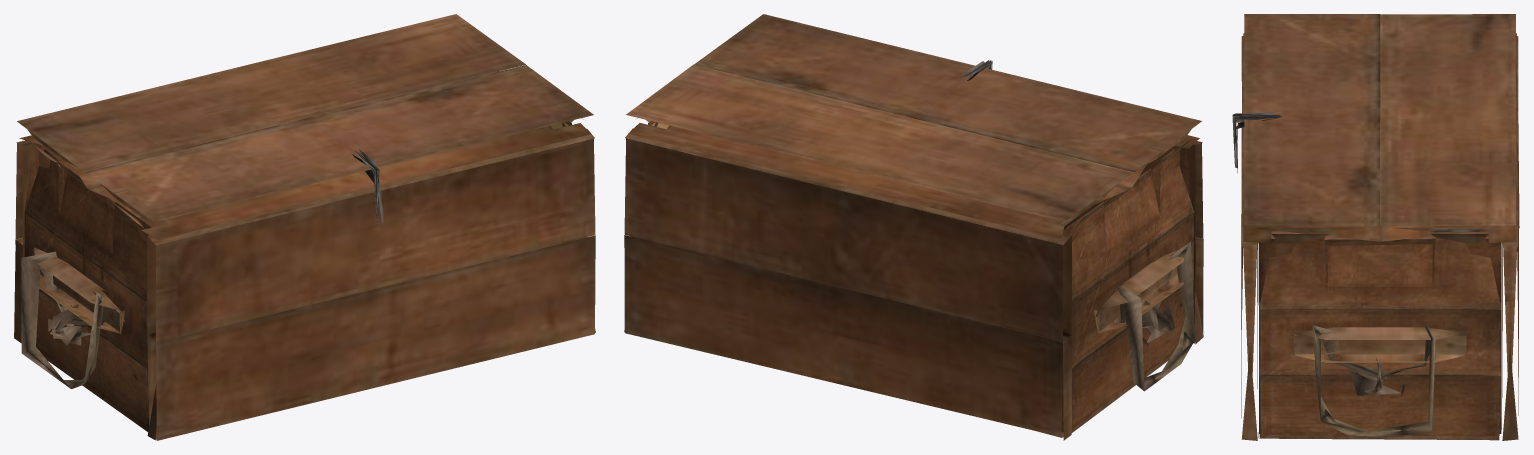
The model's file is crate.glb.
3 views of the same model, side by side, from view 1: azimuth 30°, elevation 25°; view 2: azimuth 150°, elevation 25°; view 3: azimuth 270°, elevation 25° (orthographic).
Visible parts, largest first — view 1: wooden_crate_01, wooden_crate_01_lid, wooden_crate_01_latch; view 2: wooden_crate_01, wooden_crate_01_lid; view 3: wooden_crate_01_lid, wooden_crate_01, wooden_crate_01_latch.
Boxes of the visible parts, bbox=[...] form: wooden_crate_01: bbox=[14, 71, 595, 440]; wooden_crate_01_lid: bbox=[17, 14, 593, 239]; wooden_crate_01_latch: bbox=[352, 148, 384, 224]; wooden_crate_01: bbox=[624, 121, 1203, 440]; wooden_crate_01_lid: bbox=[626, 14, 1201, 239]; wooden_crate_01_lid: bbox=[1243, 14, 1516, 242]; wooden_crate_01: bbox=[1241, 36, 1519, 440]; wooden_crate_01_latch: bbox=[1232, 111, 1282, 172].
Bounding box in the file's own units: 0.8189 × 0.3435 × 0.4005.
Materials: 1 (1 with a texture image).
